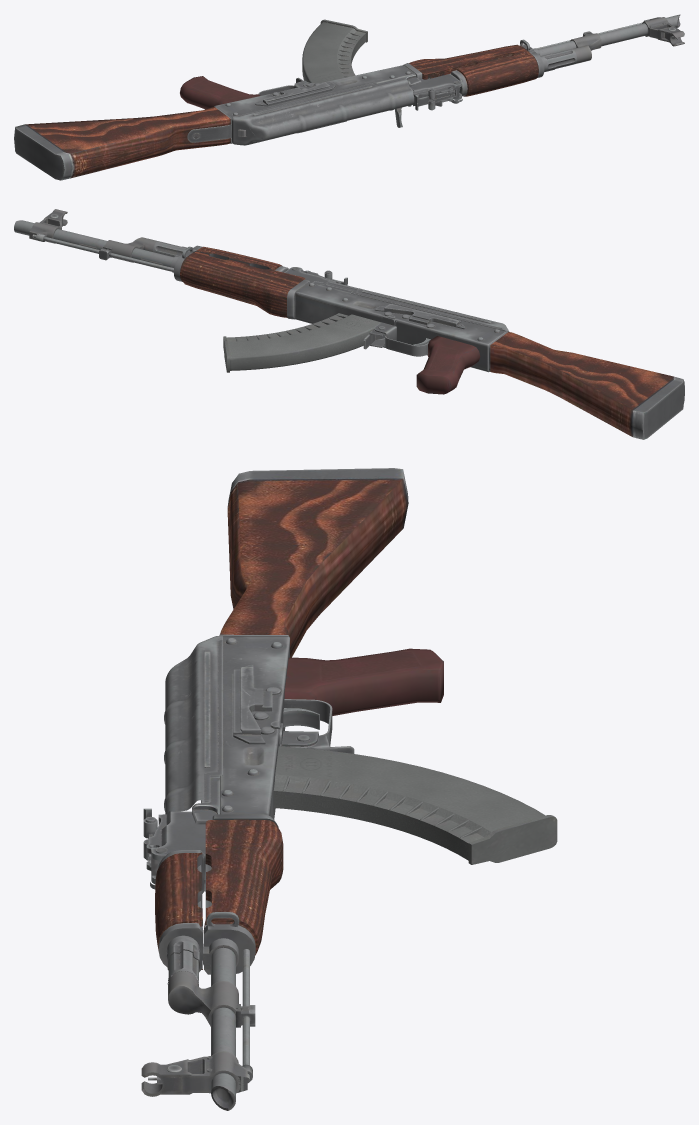
File: weapon_ak47.glb
3 renders of one model, top to bottom at view 1: azimuth 30°, elevation 25°; view 2: azimuth 150°, elevation 25°; view 3: azimuth 270°, elevation 25°, orthographic. The views are drawn at different scales.
Parts seen in each view (by area): view 1: weapon_ak47; view 2: weapon_ak47; view 3: weapon_ak47.
Part boxes in pixels (bbox=[...]): weapon_ak47: bbox=[14, 14, 684, 180]; weapon_ak47: bbox=[14, 209, 684, 439]; weapon_ak47: bbox=[141, 468, 557, 1110].
Bounding box in the file's own units: 0.9588 × 0.0759 × 0.2771.
Materials: 1 (1 with a texture image).
